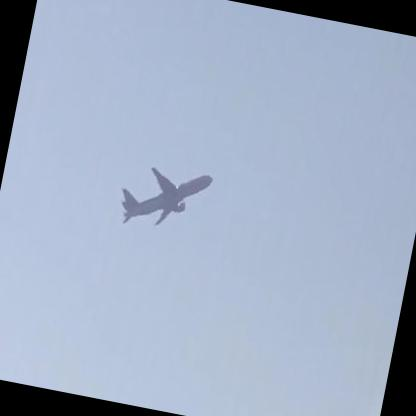plane: (114, 148, 224, 245)
